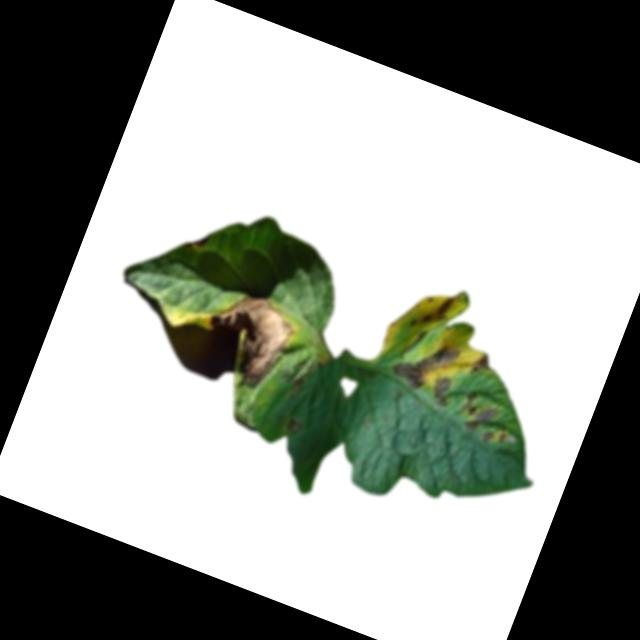Early_blight: (191, 283, 301, 395), (388, 330, 460, 399), (453, 388, 519, 450), (406, 284, 458, 340), (427, 369, 460, 409), (467, 349, 495, 378), (282, 415, 304, 435)
